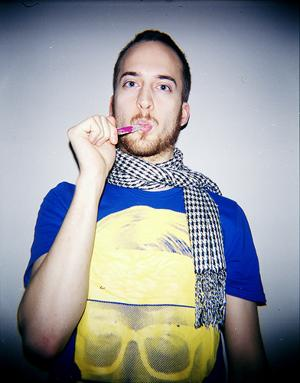person: (17, 31, 273, 383)
